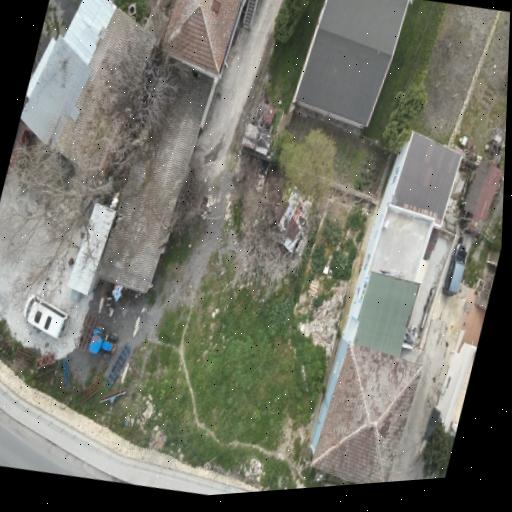car: (23, 295, 69, 338), (443, 243, 468, 295)
tractors: (89, 326, 117, 353)
